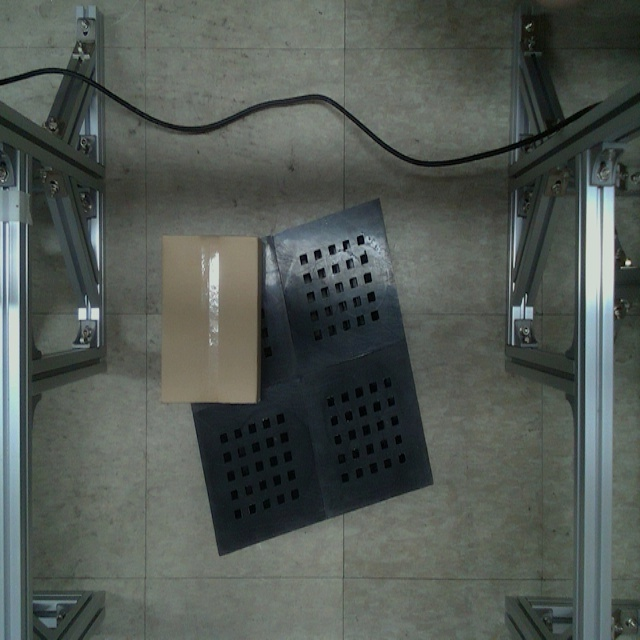box: (161, 232, 261, 408)
pallet: (155, 194, 438, 562)
